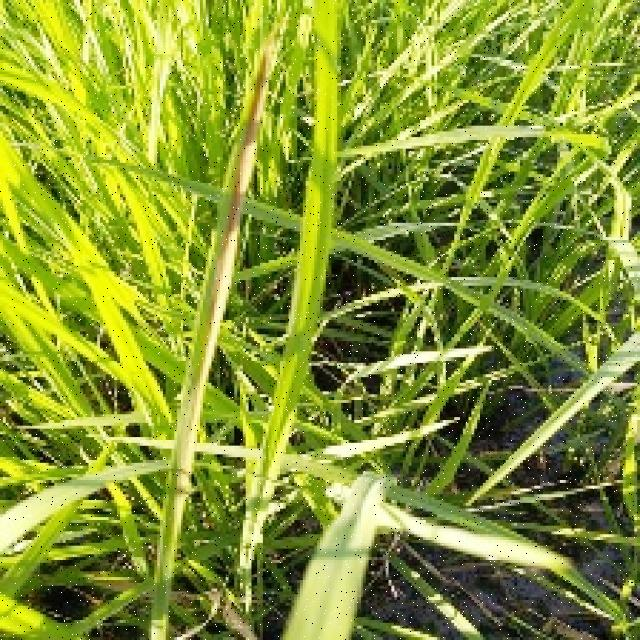health: (0, 0, 380, 586)
